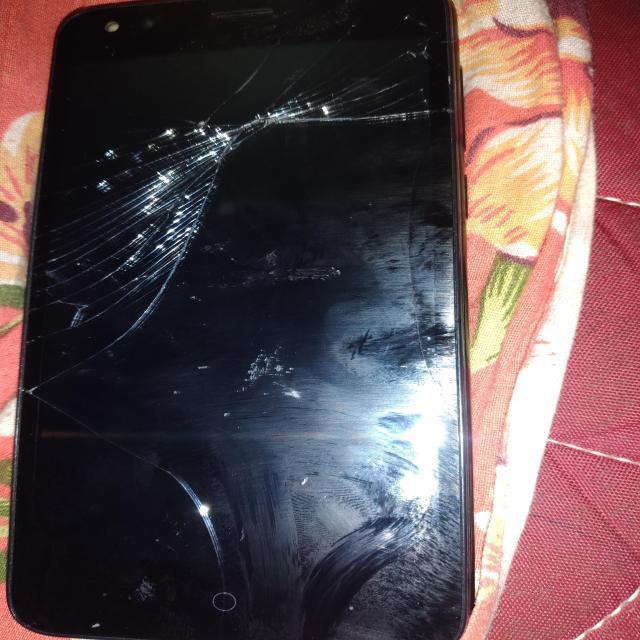cellphone: (31, 4, 513, 640)
